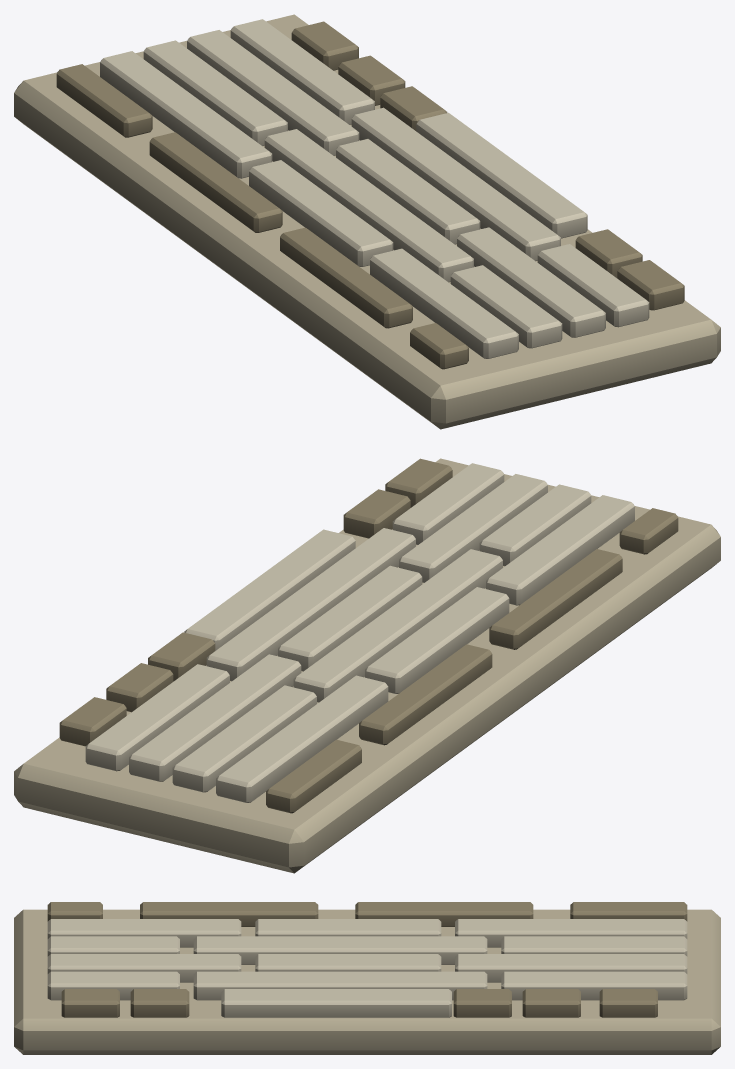
File: Keyboard.glb
The picture shows the model from 3 angles, top to bottom: view 1: azimuth 30°, elevation 25°; view 2: azimuth 150°, elevation 25°; view 3: azimuth 270°, elevation 25°; orthographic projection. The views are drawn at different scales.
Visible parts, largest first — view 1: Keyboard; view 2: Keyboard; view 3: Keyboard.
Part boxes in pixels (x1=…): Keyboard: x1=14, y1=14, x2=720, y2=429; Keyboard: x1=14, y1=458, x2=720, y2=873; Keyboard: x1=14, y1=902, x2=720, y2=1054.
Size of the model in its own units: 0.0081 by 0.00169 by 0.0207.
1 material, 1 textured.
